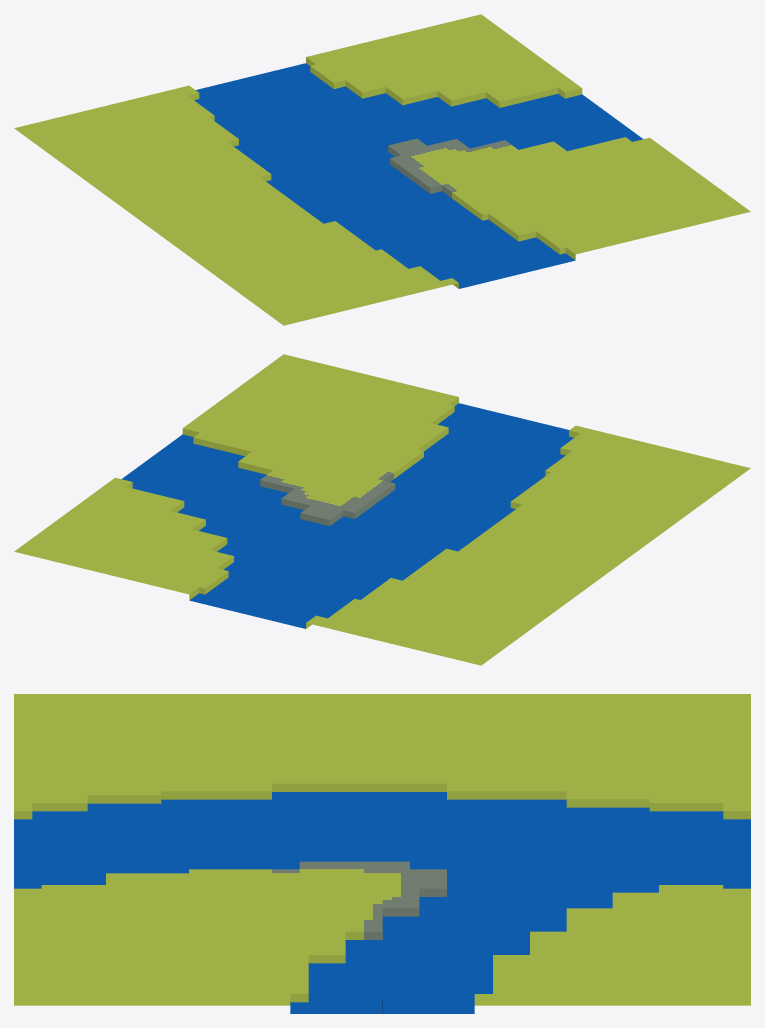
Rendered from MMMMR926(1).glb.
The picture shows the model from 3 angles, top to bottom: view 1: azimuth 30°, elevation 25°; view 2: azimuth 150°, elevation 25°; view 3: azimuth 270°, elevation 25°; orthographic projection. The views are drawn at different scales.
Visible parts, largest first — view 1: model_0.044; view 2: model_0.044; view 3: model_0.044.
Boxes of the visible parts, left/top/right/bottom form: model_0.044: left=14, top=14, right=750, bottom=325; model_0.044: left=14, top=354, right=750, bottom=665; model_0.044: left=14, top=694, right=750, bottom=1013.
Bounding box in the file's own units: 80 × 1 × 80.
Materials: 1 (1 with a texture image).
